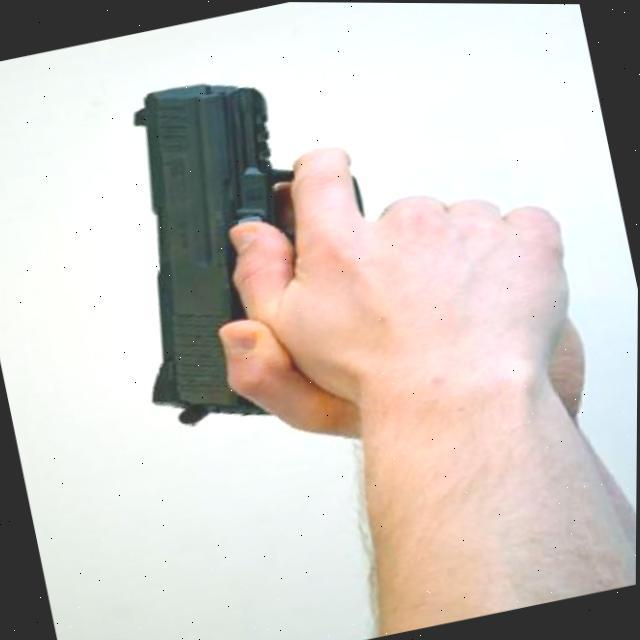gun: (84, 50, 404, 439)
